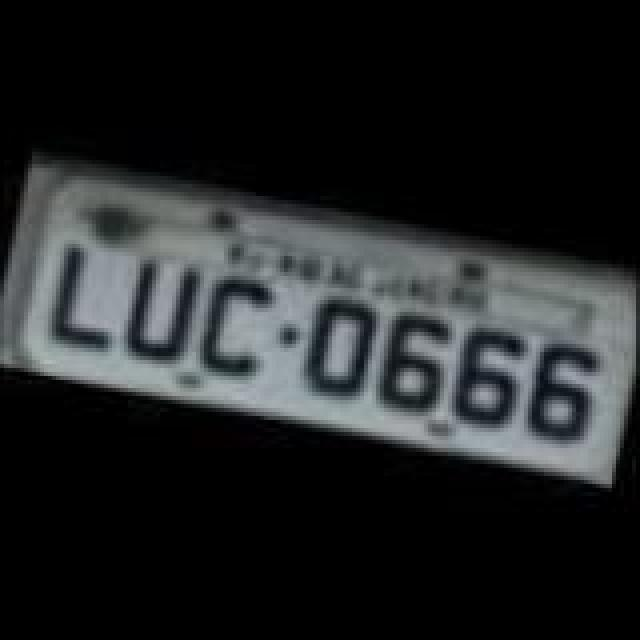6: (434, 310, 534, 434), (362, 300, 462, 420), (508, 330, 604, 450)
C: (184, 262, 284, 386)
L: (40, 232, 132, 356)
O: (286, 286, 386, 410)
U: (110, 248, 206, 368)
